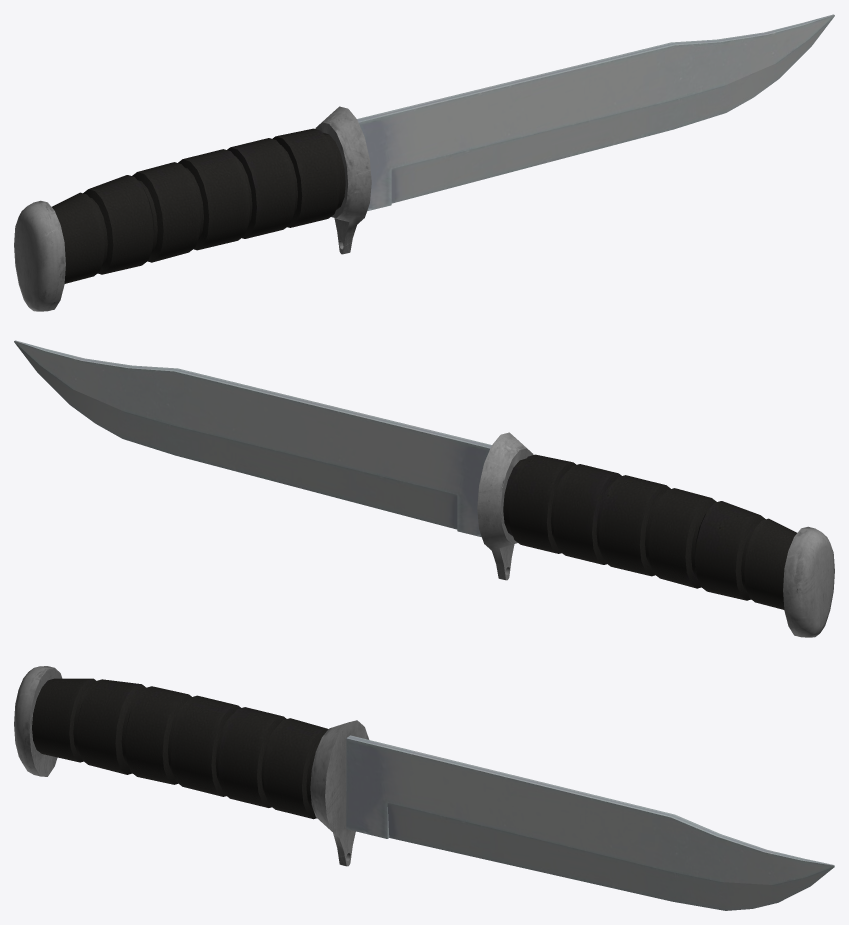
The model's file is combat_knife.glb.
3 renders of one model, top to bottom at view 1: azimuth 30°, elevation 25°; view 2: azimuth 150°, elevation 25°; view 3: azimuth 330°, elevation 25°, orthographic.
Visible parts, largest first — view 1: Cylinder; view 2: Cylinder; view 3: Cylinder.
Boxes of the visible parts, x1,y1,x2,y2 form: Cylinder: (14,14,834,311); Cylinder: (14,340,834,637); Cylinder: (14,666,834,910).
Bounding box in the file's own units: 1198 × 204 × 120.
Materials: 3 (3 with a texture image).
